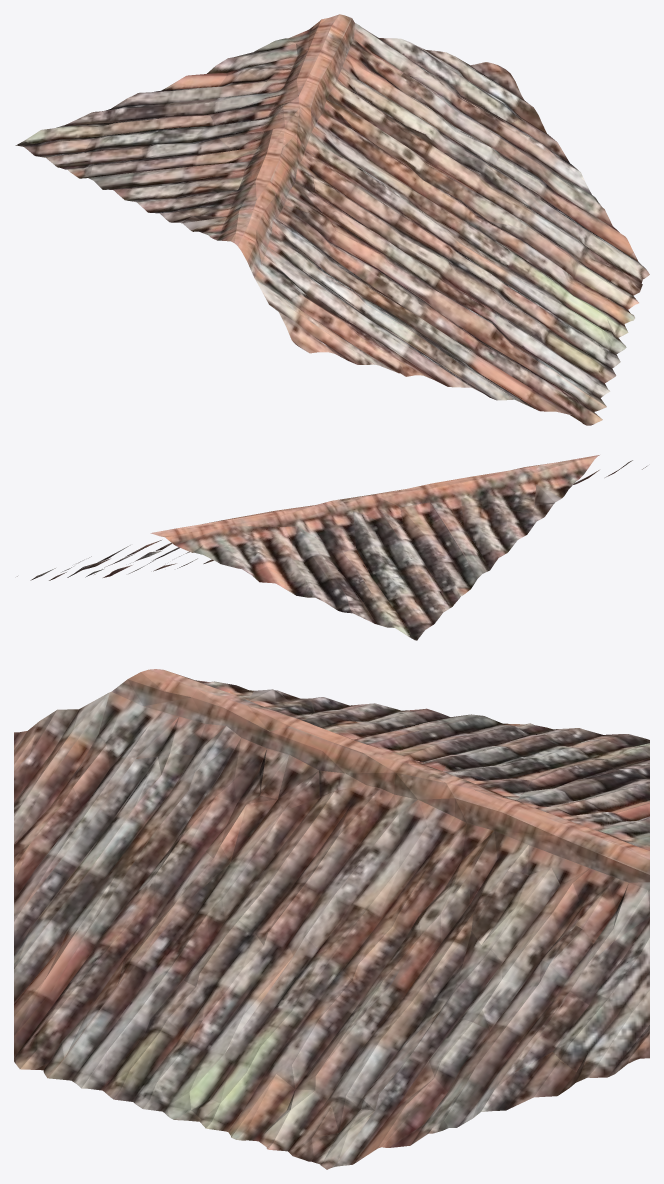
The picture shows the model from 3 angles, top to bottom: view 1: azimuth 30°, elevation 25°; view 2: azimuth 150°, elevation 25°; view 3: azimuth 270°, elevation 25°; orthographic projection. The views are drawn at different scales.
Bounding box in the file's own units: 3.35 × 1.35 × 3.35.
3 materials, 3 textured.
